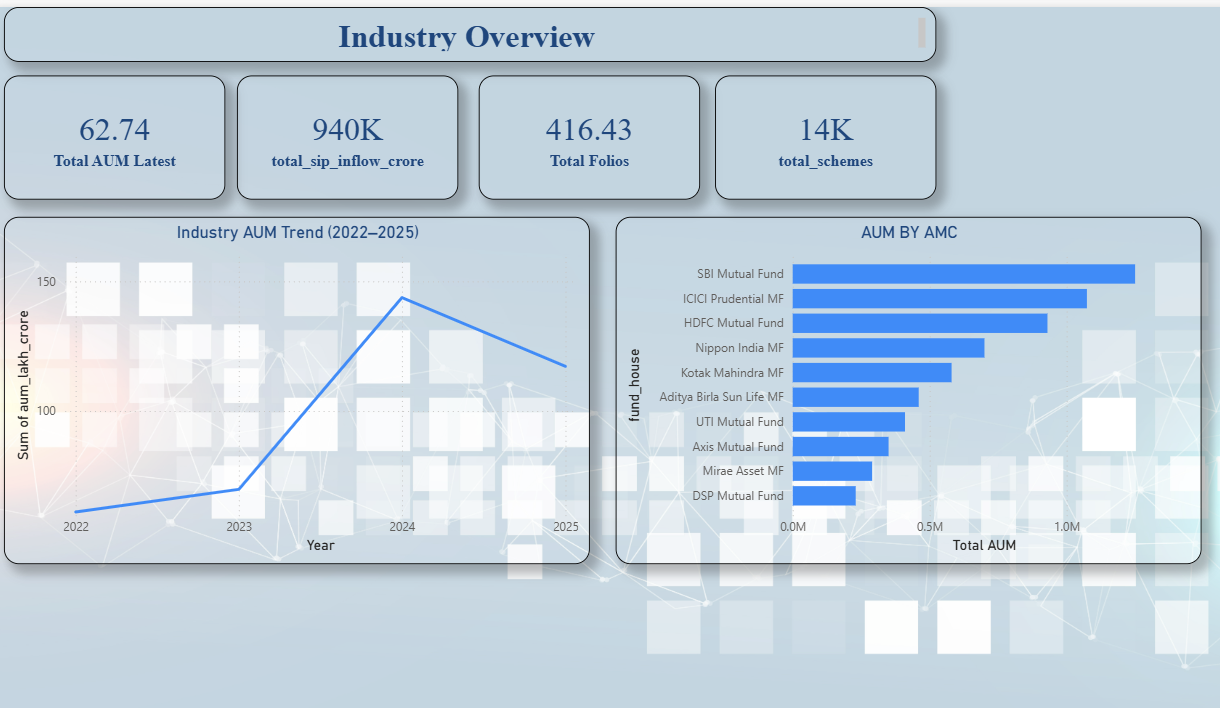

What the dashboard file says about the page in this screenshot:
{"tool":"powerbi","page":{"name":"Page 1","canvas":[1280,720],"ordinal":0},"visuals":[{"type":"textbox","box":[10.1,0,938.5,55.2],"z":0},{"type":"card","fields":{"Values":["03_aum_by_fund_house.Total AUM Latest"]},"box":[10.1,68.7,223.1,125.1],"z":1},{"type":"card","fields":{"Values":["Sum(04_monthly_sip_inflows.sip_inflow_crore)"]},"box":[244.5,68.7,223.1,125.1],"z":2},{"type":"card","fields":{"Values":["06_industry_folio_count.Total Folios"]},"box":[487.8,68.7,223.1,125.1],"z":3},{"type":"card","fields":{"Values":["Sum(03_aum_by_fund_house.num_schemes)"]},"box":[725.5,68.7,223.1,125.1],"z":4},{"type":"lineChart","title":"Industry AUM Trend (2022–2025)","fields":{"Category":["03_aum_by_fund_house.date.Variation.Date Hierarchy.Year"],"Y":["Sum(03_aum_by_fund_house.aum_lakh_crore)"]},"box":[10.1,210.7,589.2,349.2],"z":5},{"type":"clusteredBarChart","title":"AUM BY AMC","fields":{"Category":["03_aum_by_fund_house.fund_house"],"Y":["03_aum_by_fund_house.Total AUM"]},"box":[625.3,210.7,589.2,349.2],"z":6}]}

Visuals, with their boxes in screenshot pixels (x1, y1, x2, y2):
textbox: (left=0, top=0, right=933, bottom=56)
card - 03_aum_by_fund_house.Total AUM Latest: (left=0, top=69, right=210, bottom=196)
card - Sum(04_monthly_sip_inflows.sip_inflow_crore): (left=222, top=69, right=447, bottom=196)
card - 06_industry_folio_count.Total Folios: (left=467, top=69, right=693, bottom=196)
card - Sum(03_aum_by_fund_house.num_schemes): (left=708, top=69, right=933, bottom=196)
"Industry AUM Trend (2022–2025)" lineChart: (left=0, top=213, right=580, bottom=566)
"AUM BY AMC" clusteredBarChart: (left=606, top=213, right=1202, bottom=566)
